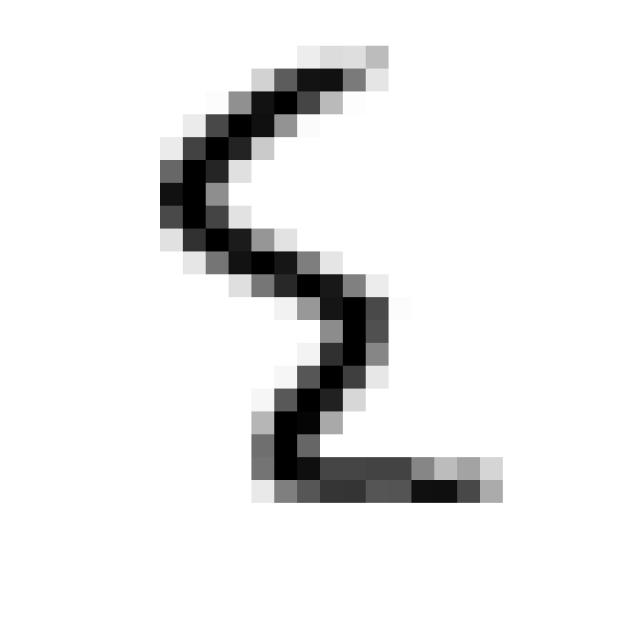4 -four-: (144, 37, 527, 517)
